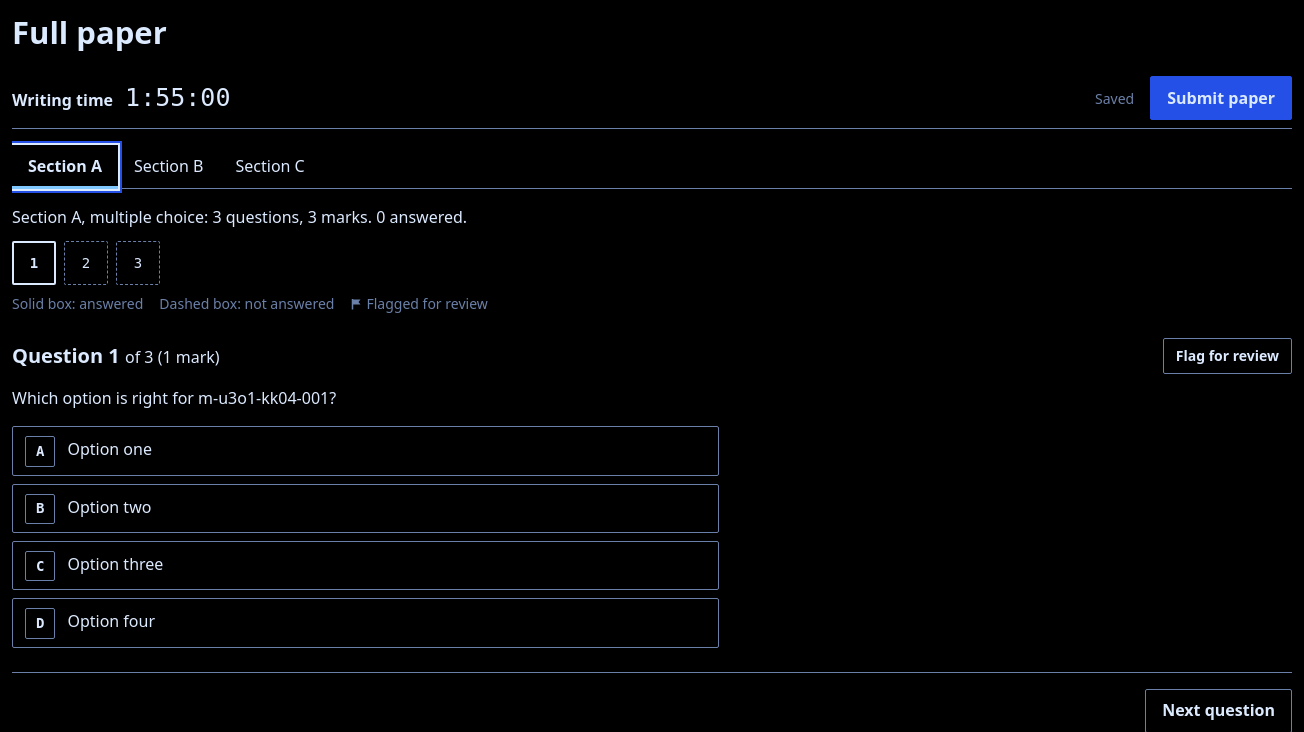
Test case: exam screen › works from the keyboard: arrow keys move between section tabs, and moving to a question focuses it
Press ArrowRight in the tab "Section A", box [12,145,118,189]
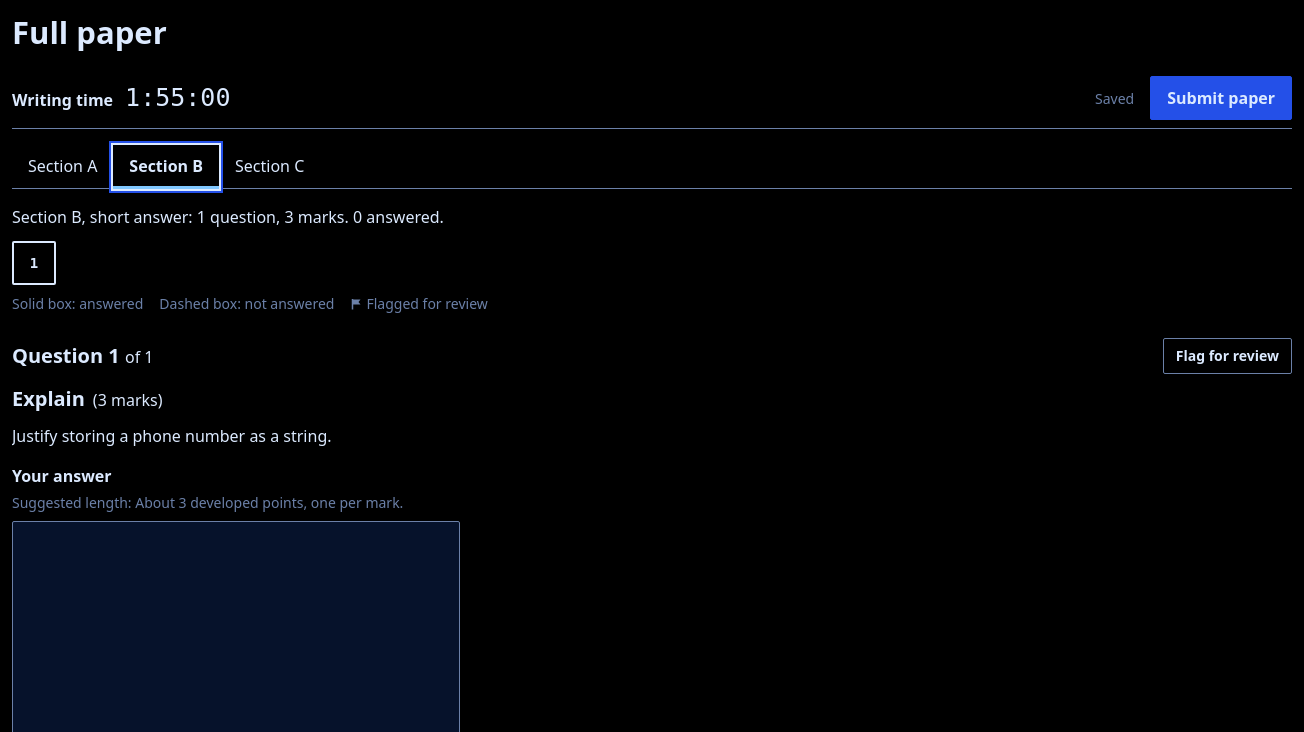
Expected: the tab "Section B" is selected
Press End in the tab "Section B", box [113,145,219,189]
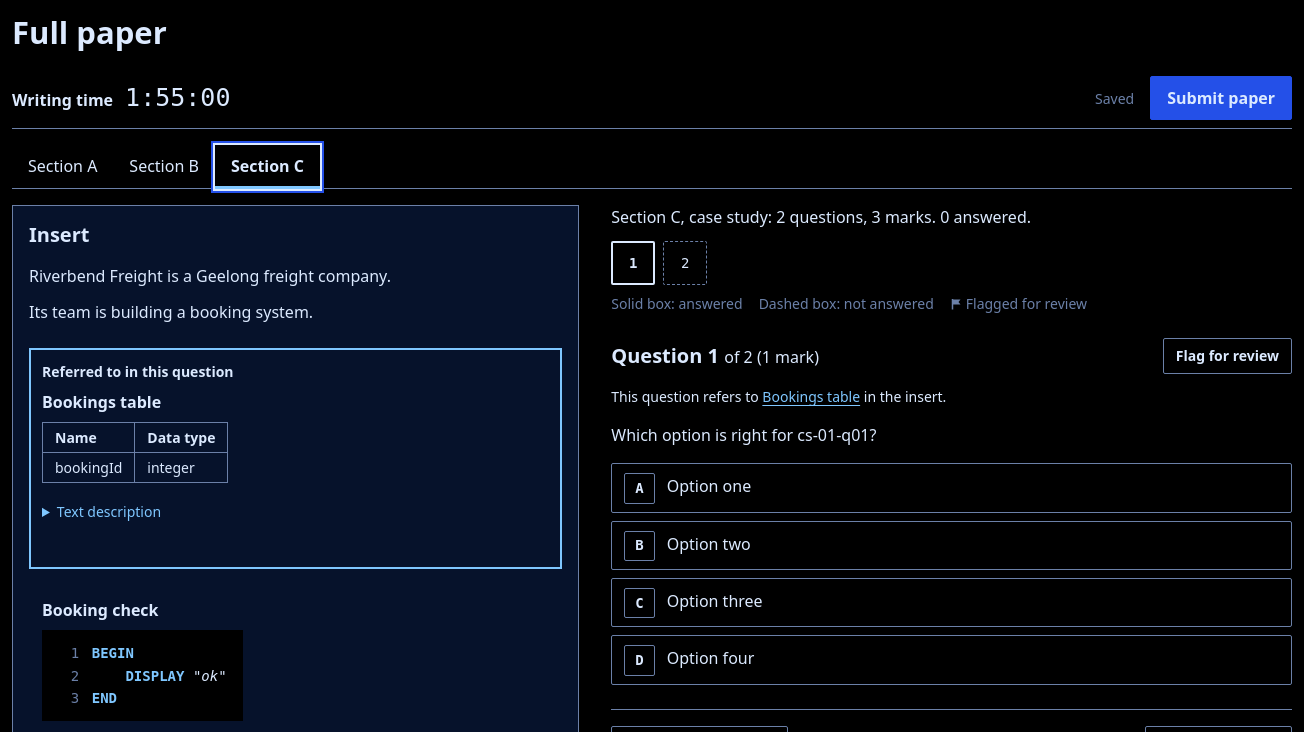
Press ArrowRight in the tab "Section C", box [215,145,320,189]
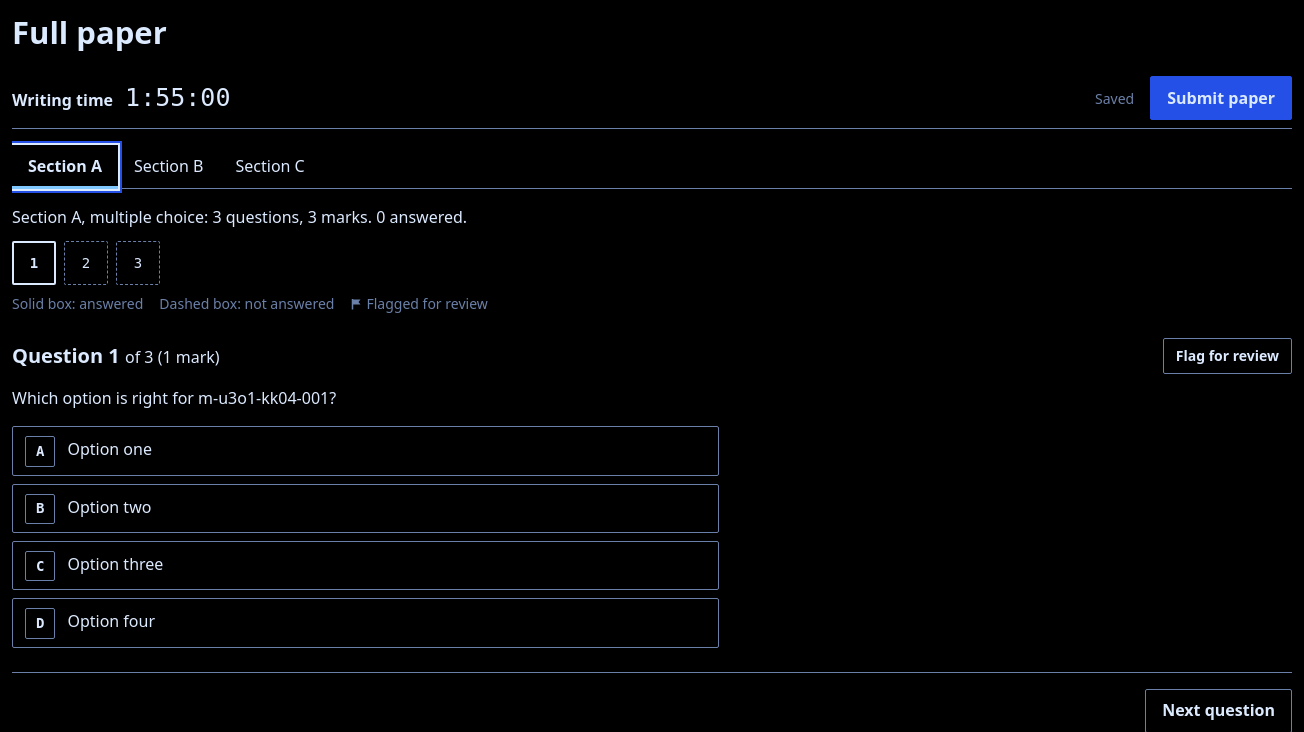
Expected: the tab "Section A" has attribute tabindex="0", [12,145,118,189]
Expected: the tab "Section B" has attribute tabindex="-1", [118,145,220,189]
Click the button named "Question 3, not answered".
click(138, 263)  # box [116,241,160,285]
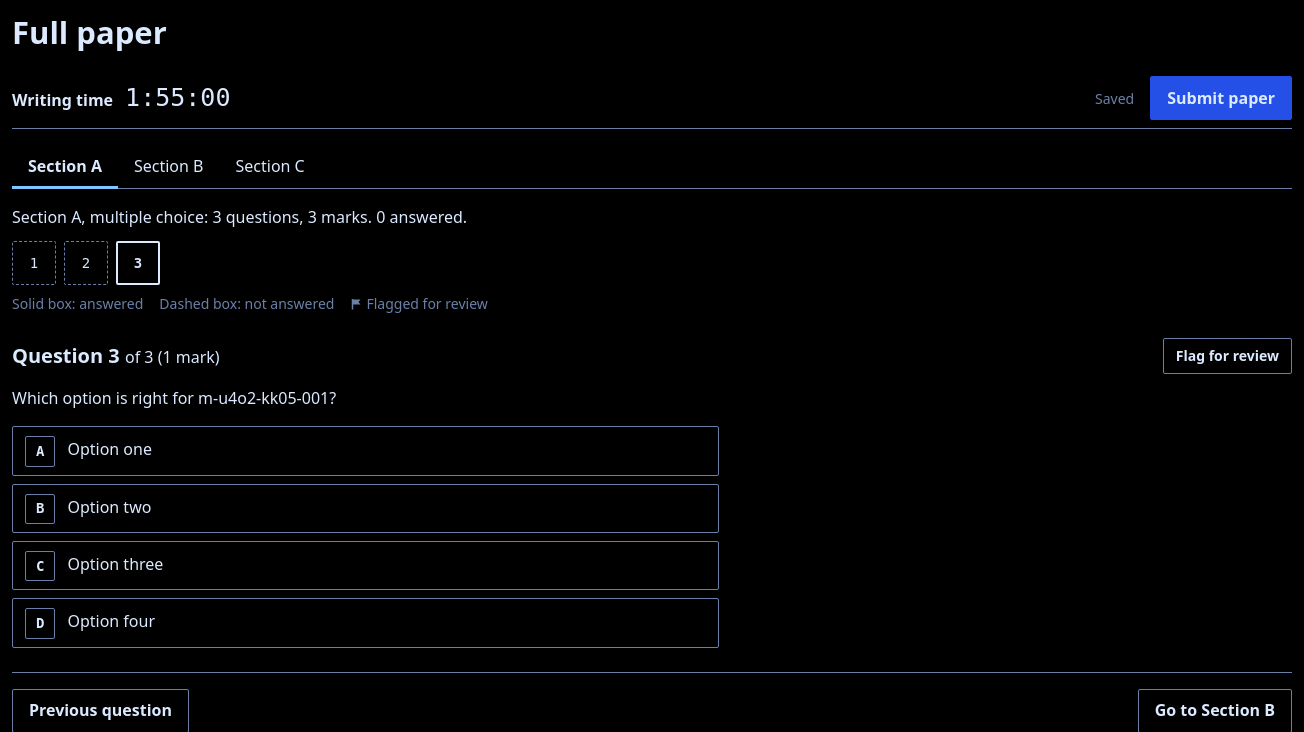
Click the button "Go to Section B".
click(1215, 711)  # box [1138,689,1292,731]
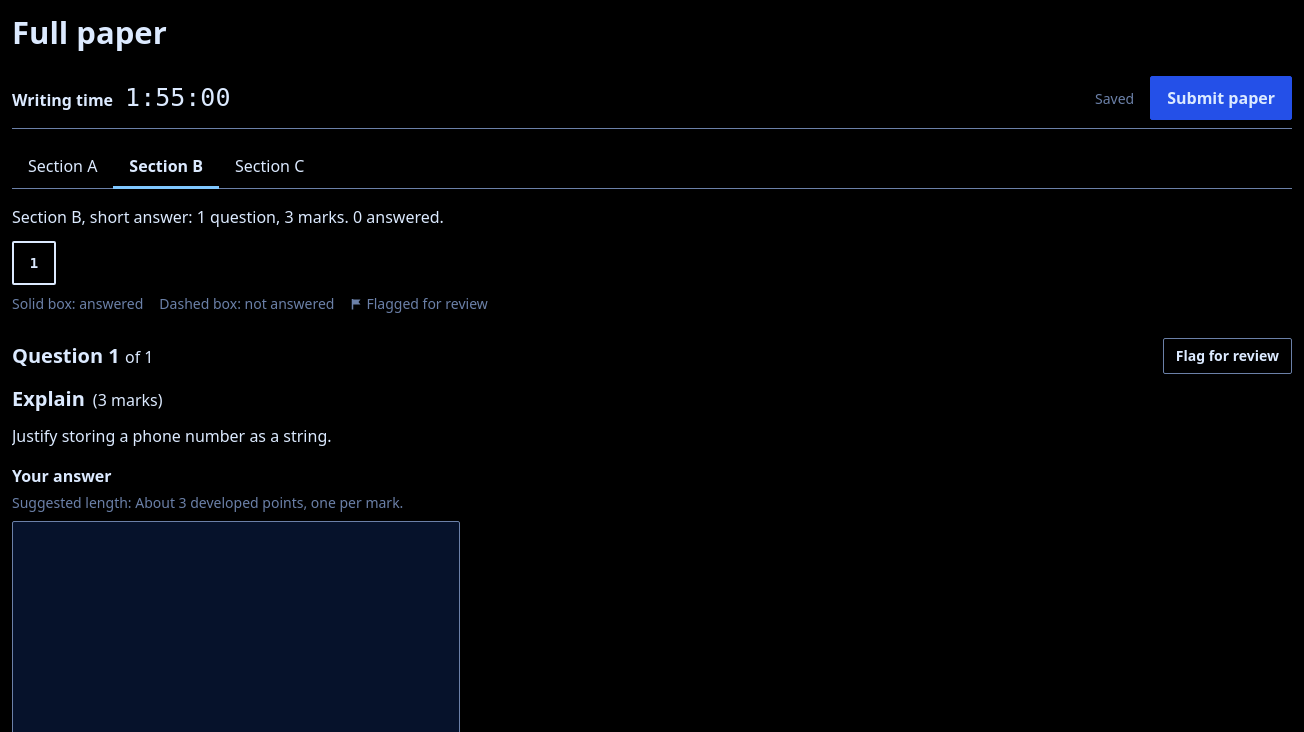
Expected: the tab "Section B" is selected, [113,145,219,189]
